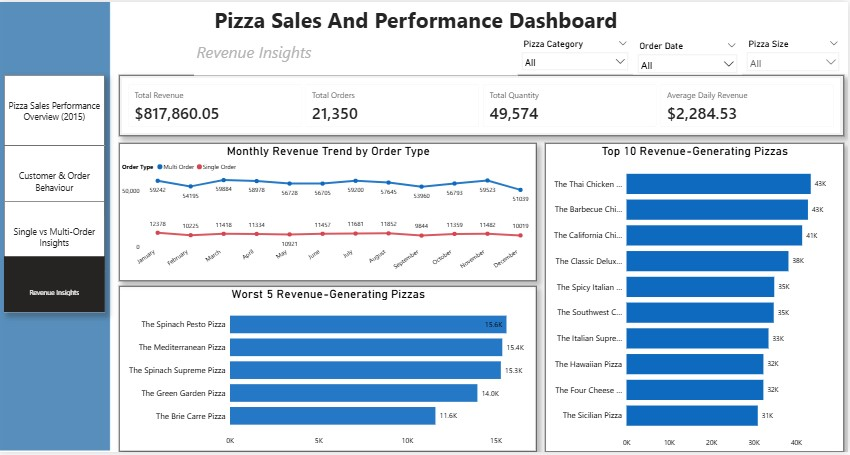

Layout of this report page (visuals, bound fields, positions):
{"tool":"powerbi","page":{"name":"Revenue Insights","canvas":[1700,900],"ordinal":3},"visuals":[{"type":"cardVisual","fields":{"Data":["Sheet1.Total Revenue","Sheet1.Total Orders","Sheet1.Total Quantity","Sheet1.Average Daily Revenue"]},"box":[241.3,146.2,1449.6,122.5],"z":0},{"type":"textbox","box":[226.7,0,1219.2,71.3],"z":1000},{"type":"slicer","title":"Order Date","fields":{"Values":["Sheet1.order_date"]},"box":[1270.4,71.3,217.5,73.1],"z":2000},{"type":"slicer","fields":{"Values":["Sheet1.pizza_category"]},"box":[1038.3,67.6,232.2,73.1],"z":3000},{"type":"slicer","fields":{"Values":["Sheet1.pizza_size"]},"box":[1488,68,204,72],"z":4000},{"type":"textbox","box":[391.2,71.3,647.1,74.9],"z":5000},{"type":"lineChart","title":"Monthly Revenue Trend by Order Type","fields":{"Category":["Sheet1.Month"],"Y":["Sheet1.Total Revenue"],"Series":["OrdersSummary.OrderType1"]},"box":[241.3,281.5,835.4,276],"z":6000},{"type":"clusteredBarChart","title":"Top 10 Revenue-Generating Pizzas","fields":{"Category":["Sheet1.pizza_name"],"Y":["Sheet1.Total Revenue"]},"box":[1093.1,281.5,597.7,617.8],"z":7000},{"type":"clusteredBarChart","title":"Worst 5 Revenue-Generating Pizzas","fields":{"Category":["Sheet1.pizza_name"],"Y":["Sheet1.Total Revenue"]},"box":[241.3,568.5,835.4,330.9],"z":8000},{"type":"pageNavigator","box":[12.8,146.2,201.1,475.3],"z":9000}]}

Visuals, with their boxes in screenshot pixels (x1, y1, x2, y2), scaled from the page's 1700x900 canvas onto the 850x455 screenshot:
cardVisual - Sheet1.Total Revenue x Sheet1.Total Orders: <bbox>121, 74, 845, 136</bbox>
textbox: <bbox>113, 0, 723, 36</bbox>
"Order Date" slicer: <bbox>635, 36, 744, 73</bbox>
slicer - Sheet1.pizza_category: <bbox>519, 34, 635, 71</bbox>
slicer - Sheet1.pizza_size: <bbox>744, 34, 846, 71</bbox>
textbox: <bbox>196, 36, 519, 74</bbox>
"Monthly Revenue Trend by Order Type" lineChart: <bbox>121, 142, 538, 282</bbox>
"Top 10 Revenue-Generating Pizzas" clusteredBarChart: <bbox>547, 142, 845, 454</bbox>
"Worst 5 Revenue-Generating Pizzas" clusteredBarChart: <bbox>121, 287, 538, 454</bbox>
pageNavigator: <bbox>6, 74, 107, 314</bbox>
